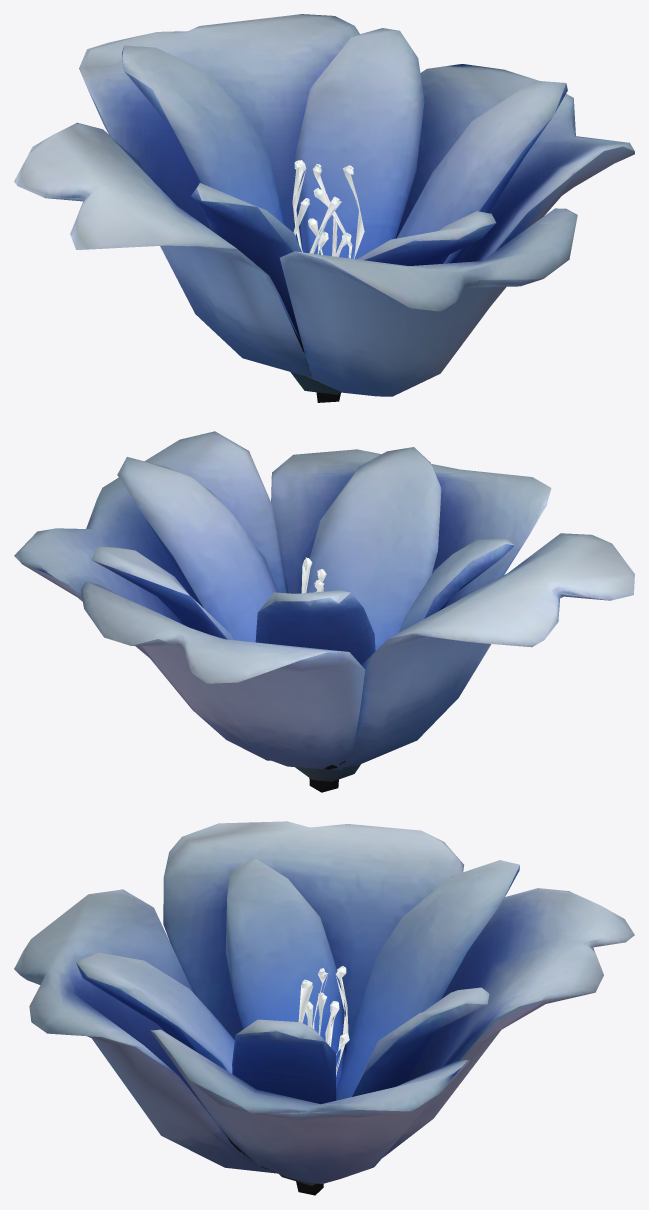
The model's file is flower.glb.
3 renders of one model, top to bottom at view 1: azimuth 30°, elevation 25°; view 2: azimuth 150°, elevation 25°; view 3: azimuth 270°, elevation 25°, orthographic. The views are drawn at different scales.
Visible parts, largest first — view 1: fiore; view 2: fiore; view 3: fiore.
Boxes of the visible parts, left/top/right/bottom form: fiore: left=14, top=14, right=634, bottom=402; fiore: left=14, top=431, right=634, bottom=792; fiore: left=14, top=821, right=634, bottom=1195.
Bounding box in the file's own units: 8.19 × 4.14 × 8.28.
Materials: 1 (1 with a texture image).
